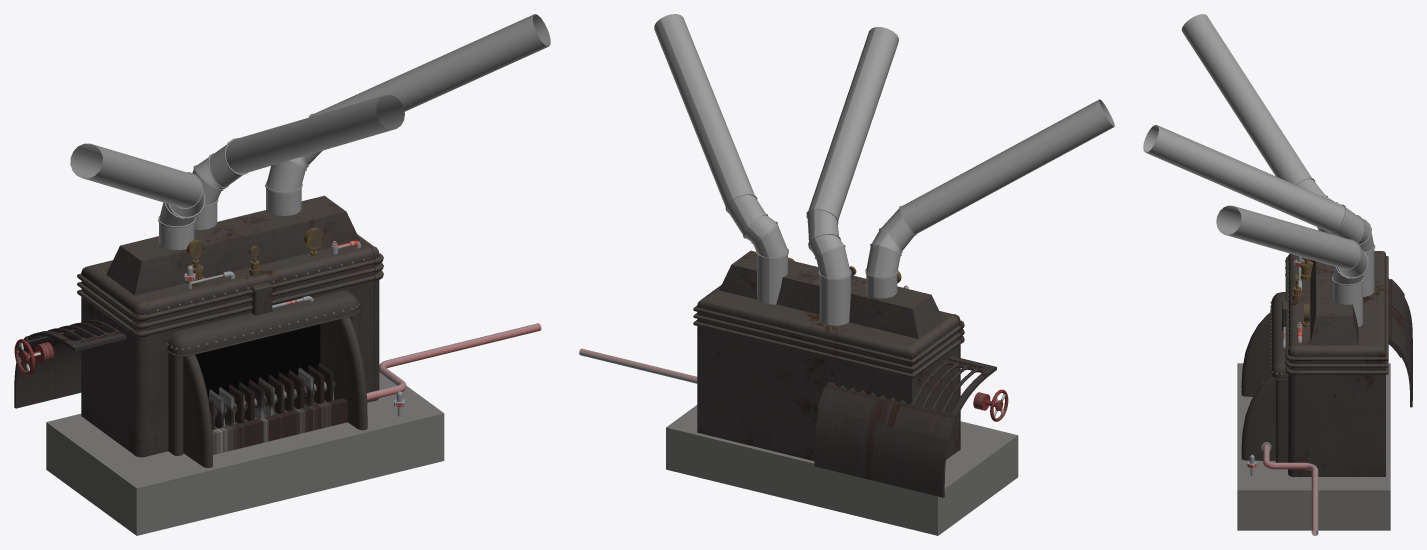
The model's file is furnace.glb.
3 renders of one model, left to right at view 1: azimuth 30°, elevation 25°; view 2: azimuth 150°, elevation 25°; view 3: azimuth 270°, elevation 25°, orthographic. The views are drawn at different scales.
Visible parts, largest first — view 1: furnace-body, inner-wall-conrete, furnace-pipes, furnace-mouth, Fire, furnace-door, furnace-heat_element, furnace-heat-barrier, pipes_n_valves, dials, valve; view 2: furnace-body, furnace-pipes, inner-wall-conrete, furnace-door, pipes_n_valves, valve; view 3: furnace-pipes, furnace-body, inner-wall-conrete, furnace-mouth, furnace-door, pipes_n_valves, dials.
Boxes of the visible parts, box(x1,y1,x2,y2) form: furnace-body: box(77, 195, 383, 457); inner-wall-conrete: box(46, 372, 444, 535); furnace-pipes: box(70, 14, 550, 249); furnace-mouth: box(166, 291, 367, 467); Fire: box(195, 324, 320, 397); furnace-door: box(14, 320, 126, 408); furnace-heat_element: box(208, 362, 335, 429); furnace-heat-barrier: box(212, 398, 347, 454); pipes_n_valves: box(184, 240, 541, 416); dials: box(186, 227, 325, 286); valve: box(14, 339, 53, 375); furnace-body: box(693, 250, 964, 460); furnace-pipes: box(654, 14, 1114, 325); inner-wall-conrete: box(666, 405, 1018, 535); furnace-door: box(814, 356, 996, 497); pipes_n_valves: box(579, 285, 908, 383); valve: box(973, 389, 1008, 421); furnace-pipes: box(1143, 14, 1375, 326); furnace-body: box(1282, 251, 1388, 476); inner-wall-conrete: box(1237, 363, 1390, 530); furnace-mouth: box(1241, 292, 1287, 462); furnace-door: box(1388, 278, 1412, 407); pipes_n_valves: box(1246, 256, 1318, 535); dials: box(1292, 258, 1313, 326).
Bounding box in the file's own units: 4.79 × 3.64 × 2.47.
13 materials, 13 textured.
